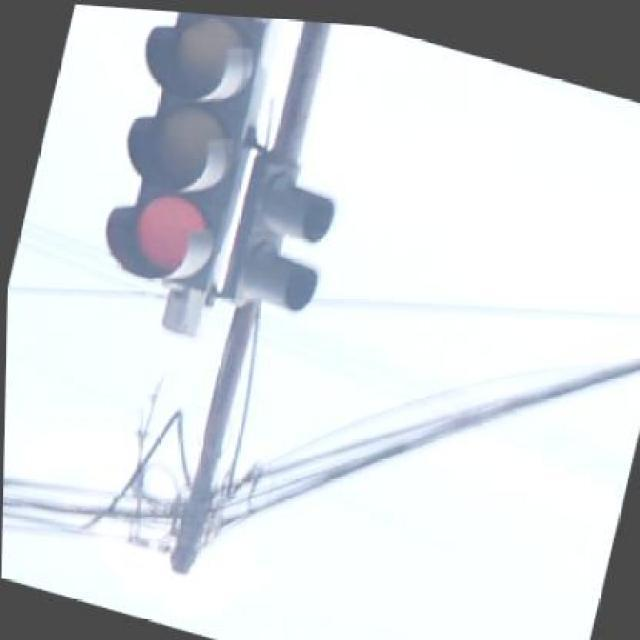red_light: (104, 12, 263, 332)
